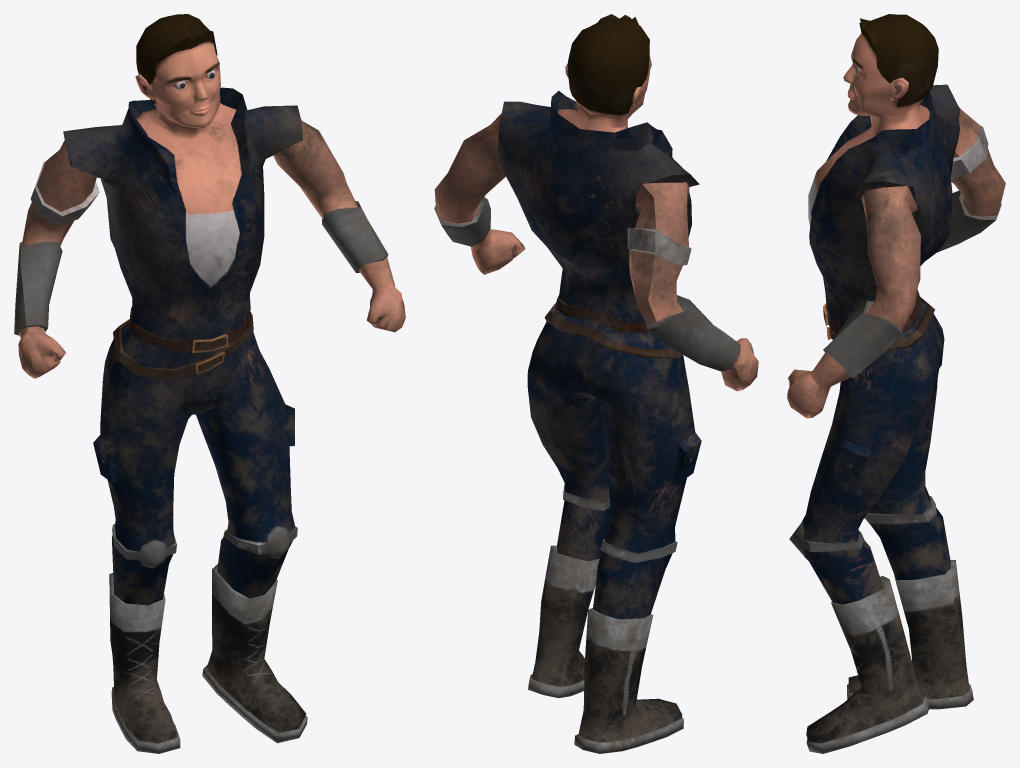
File: Anim_ataque_d1_jugador.0031.obj
3 renders of one model, left to right at view 1: azimuth 30°, elevation 25°; view 2: azimuth 150°, elevation 25°; view 3: azimuth 270°, elevation 25°, orthographic.
Visible parts, largest first — view 1: polySurface1; view 2: polySurface1; view 3: polySurface1.
Part boxes in pixels (x1,y1,x2,y2): polySurface1: (14, 14, 405, 753); polySurface1: (434, 14, 758, 753); polySurface1: (787, 14, 1005, 753).
Size of the model in its own units: 4.74 by 9.63 by 2.74.
